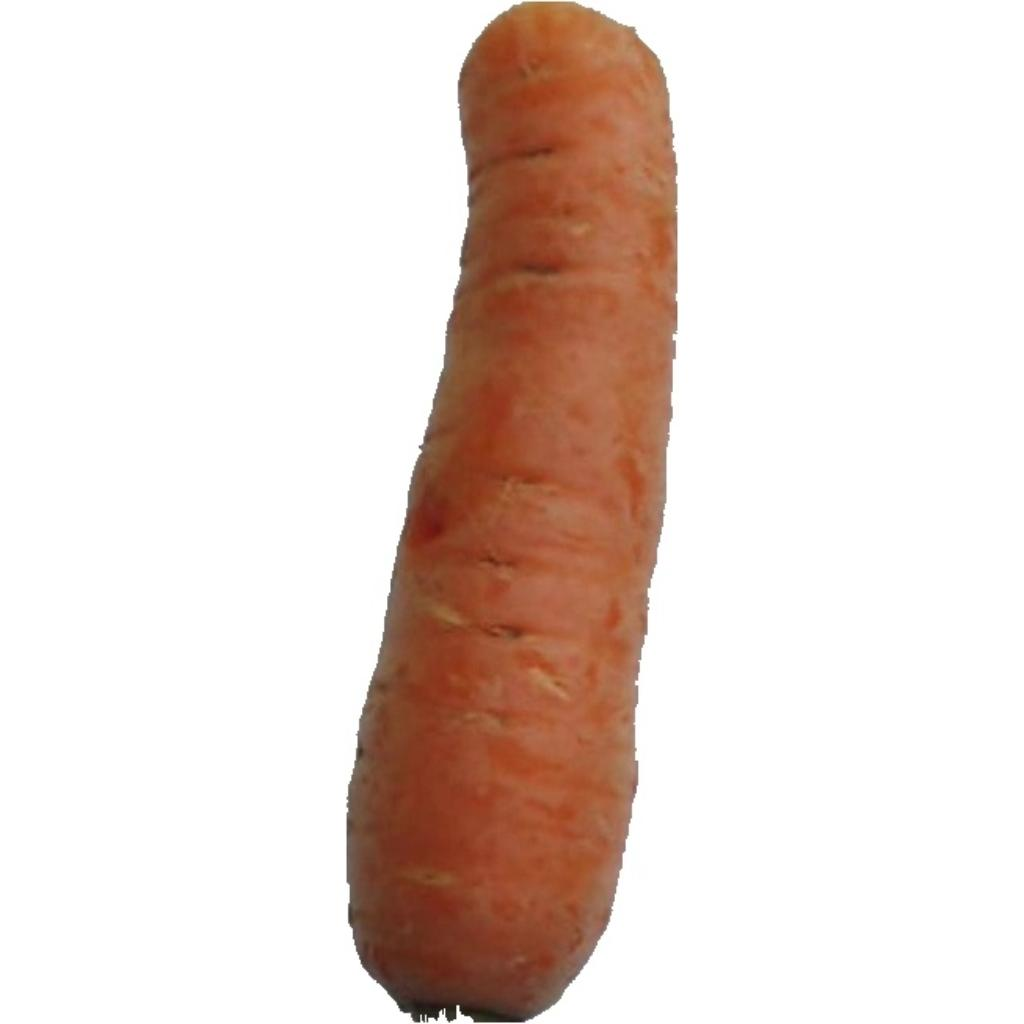carrot: (349, 4, 675, 1020)
